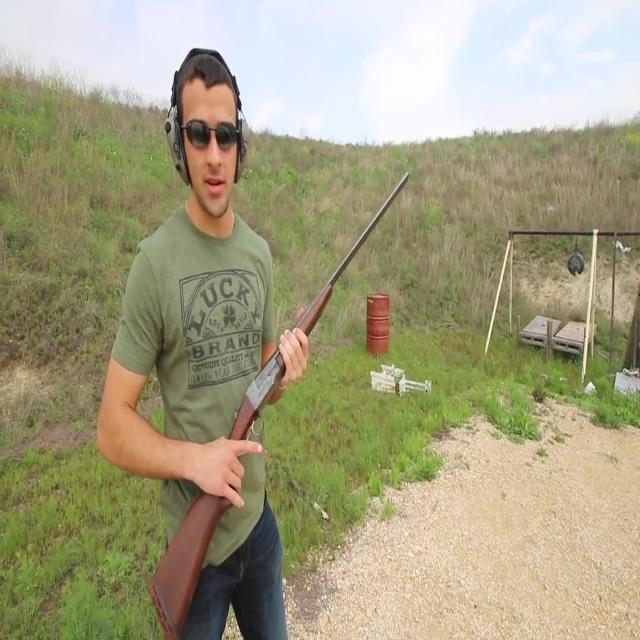Weapon: (131, 156, 424, 638)
